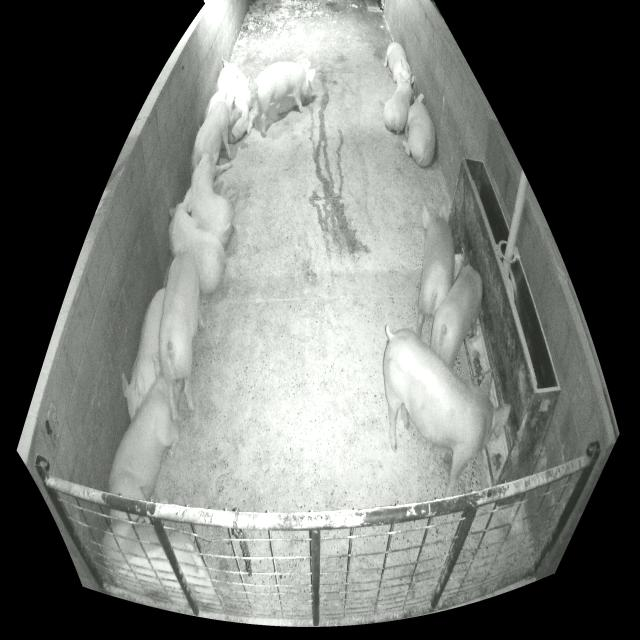pig: (384, 324, 510, 478), (108, 354, 177, 501), (103, 519, 215, 609), (160, 254, 200, 420), (122, 288, 165, 420), (430, 265, 482, 369), (416, 205, 455, 337), (247, 62, 316, 136), (168, 203, 224, 292), (184, 152, 233, 248), (190, 90, 242, 180), (216, 58, 253, 143), (397, 95, 436, 169), (384, 72, 414, 133), (384, 42, 411, 86), (204, 92, 225, 121)
